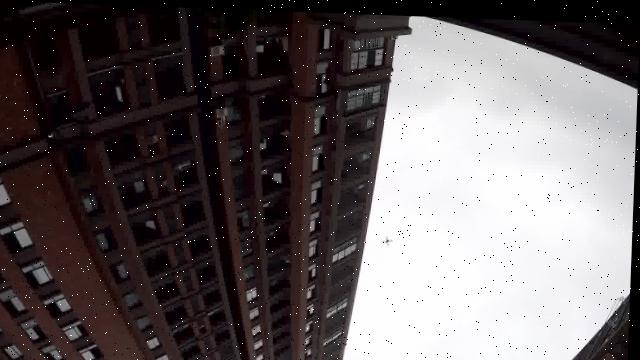drone: (372, 233, 394, 256)
